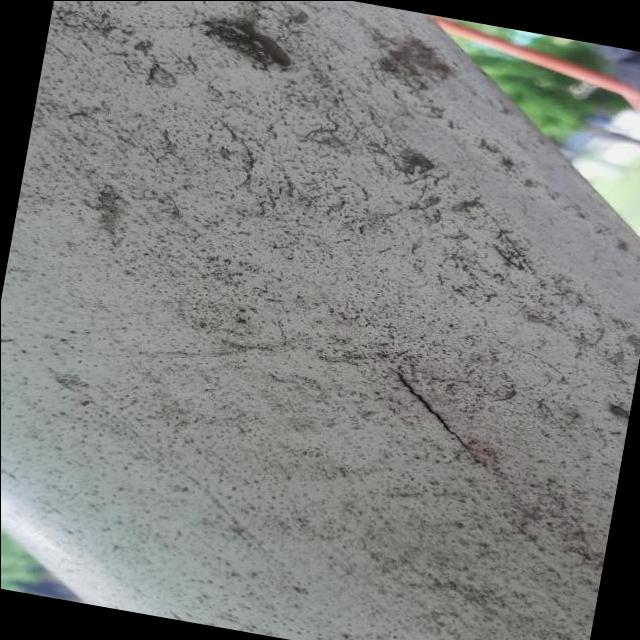defect: (380, 362, 478, 467)
